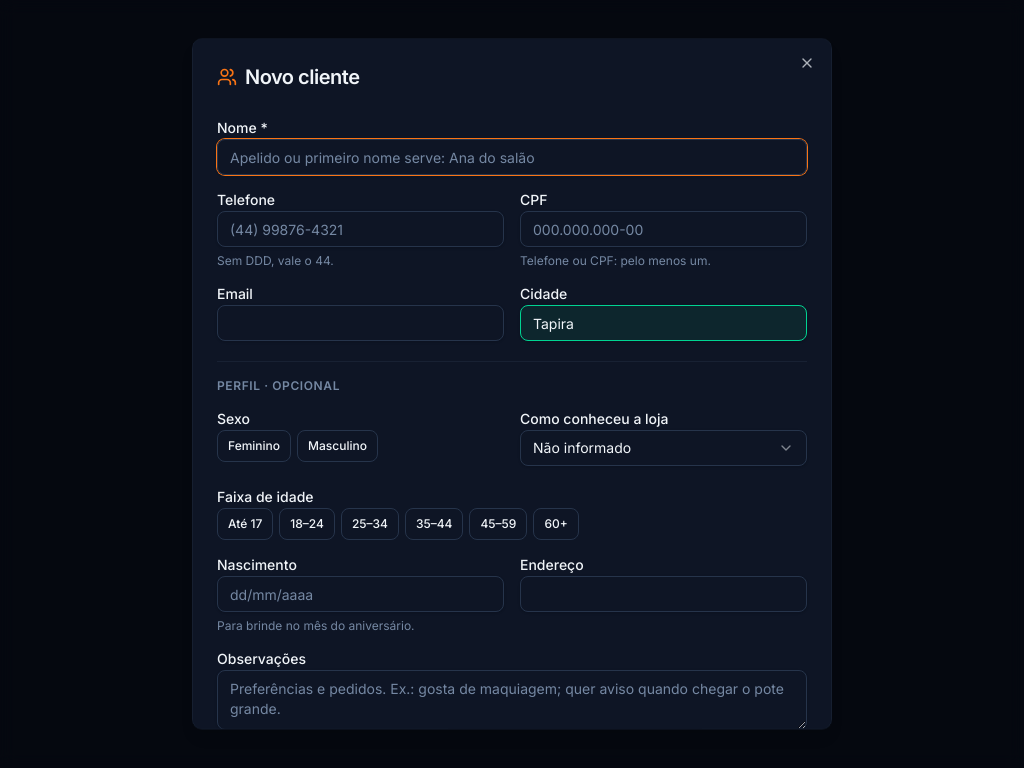
it: CustomerEditorModal › exige o telefone ou o CPF, e diz no campo
The image size is (1024, 768).
Type "Ana do salão" into the field labelled "nome" at (512, 157), box [217, 139, 807, 175]
(page scrolled)
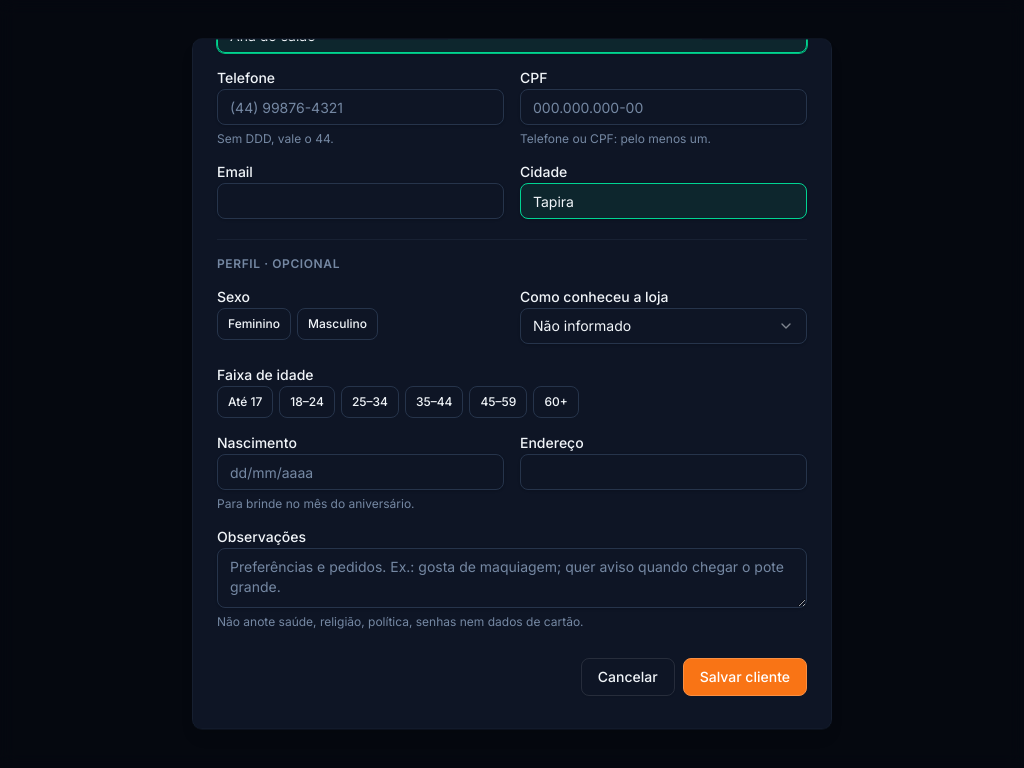
Click the button "Salvar cliente" at (745, 677), box [683, 658, 807, 696]
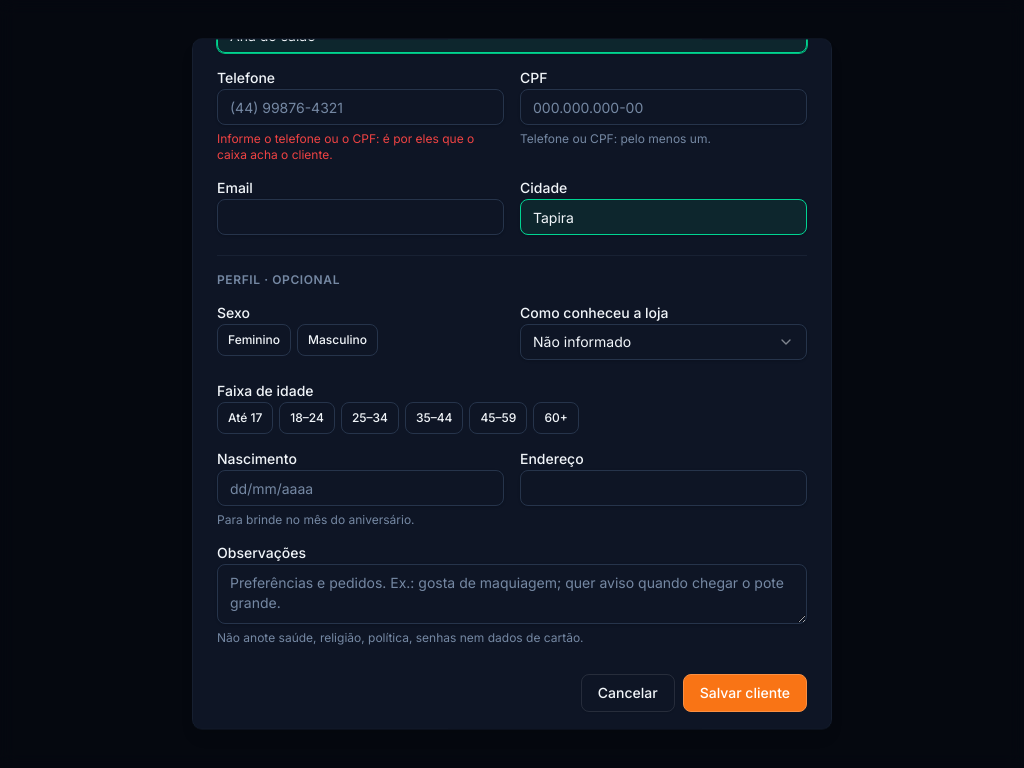
Expected: the text "Informe o telefone ou o CPF" is shown, [217, 131, 474, 162]
